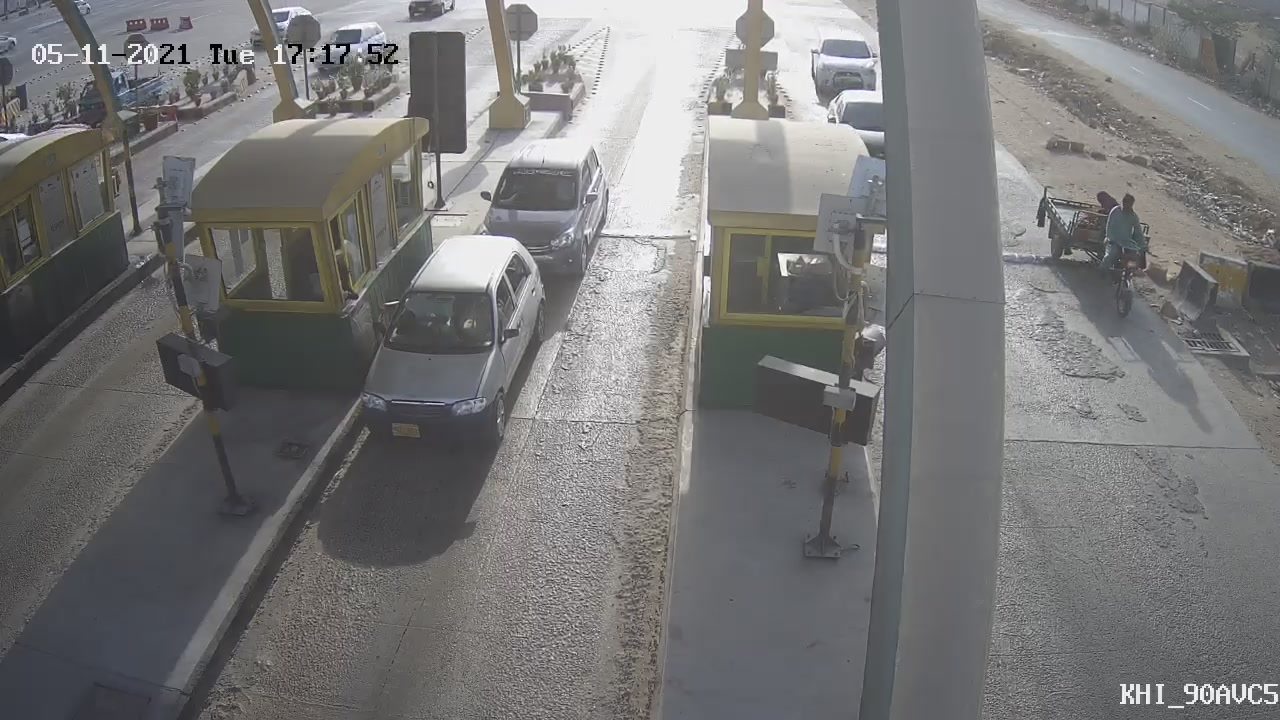F1: (339, 221, 559, 465), (460, 125, 624, 295)
